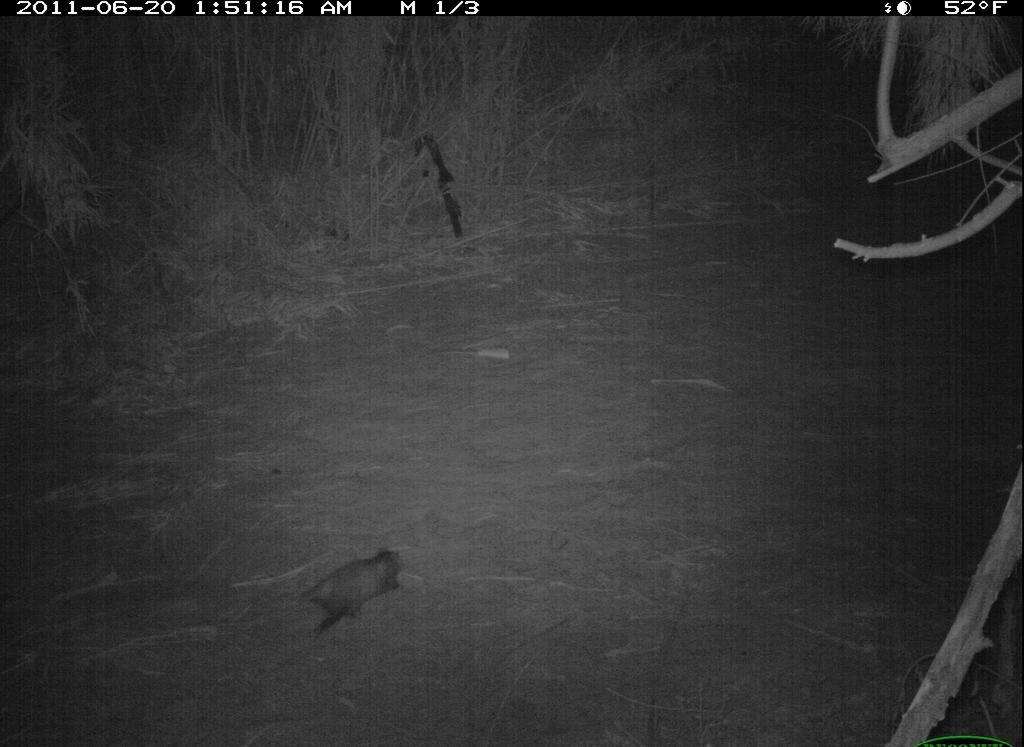opossum: (296, 539, 411, 637)
